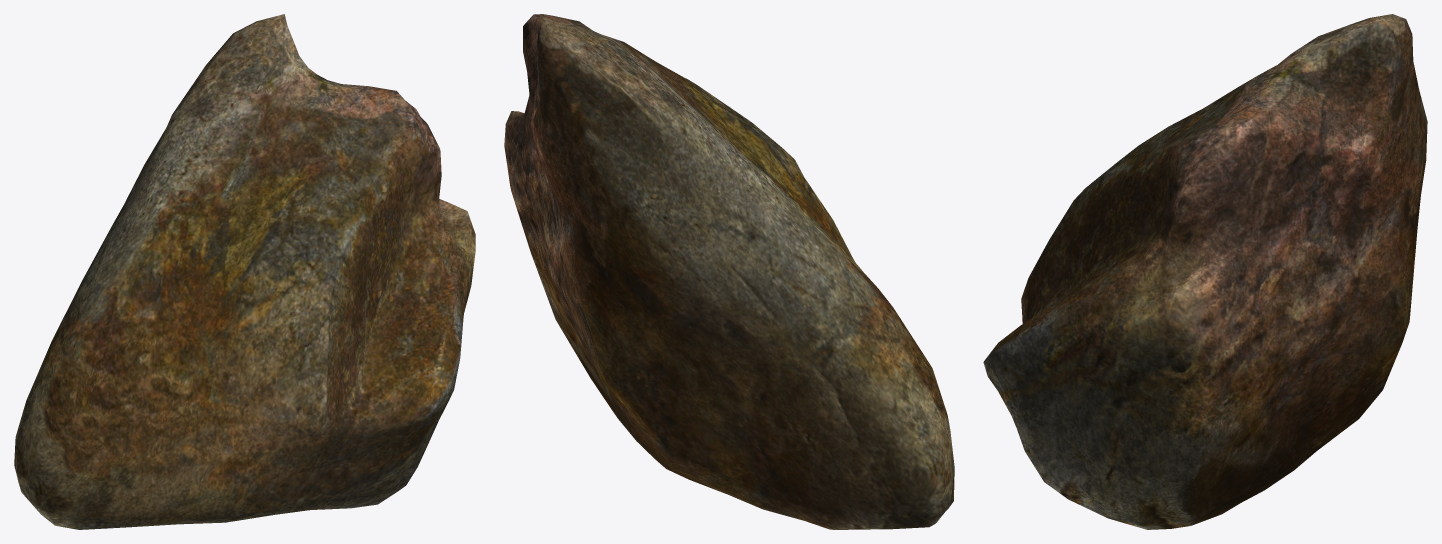
The model's file is steinrock.glb.
3 renders of one model, left to right at view 1: azimuth 30°, elevation 25°; view 2: azimuth 150°, elevation 25°; view 3: azimuth 270°, elevation 25°, orthographic. The views are drawn at different scales.
Visible parts, largest first — view 1: SteinRock; view 2: SteinRock; view 3: SteinRock.
Boxes of the visible parts, left/top/right/bottom form: SteinRock: left=14, top=14, right=475, bottom=529; SteinRock: left=504, top=14, right=954, bottom=529; SteinRock: left=983, top=14, right=1427, bottom=529.
Size of the model in its own units: 1.37 by 1.33 by 1.02.
1 material, 1 textured.
